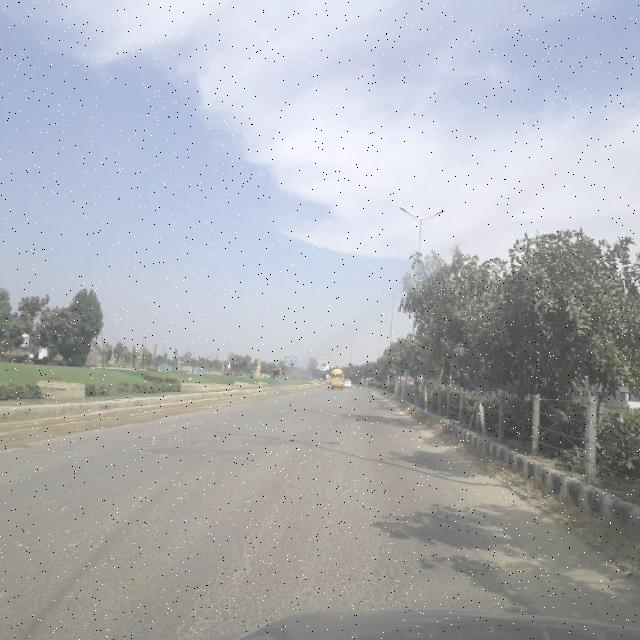D20: (37, 410, 507, 630)
D40: (135, 422, 184, 442), (137, 445, 186, 465)
